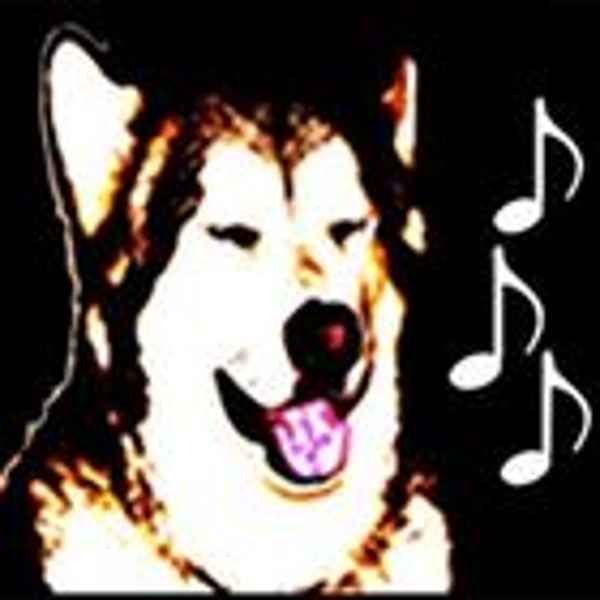doge: (22, 13, 439, 549)
